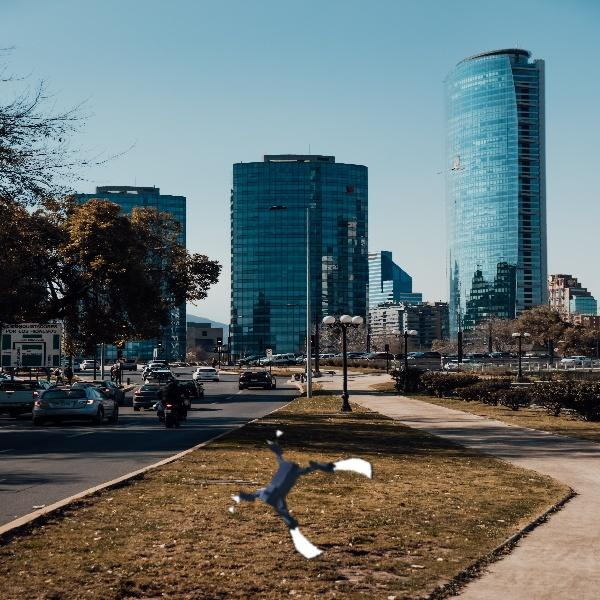drone: (234, 424, 366, 556)
